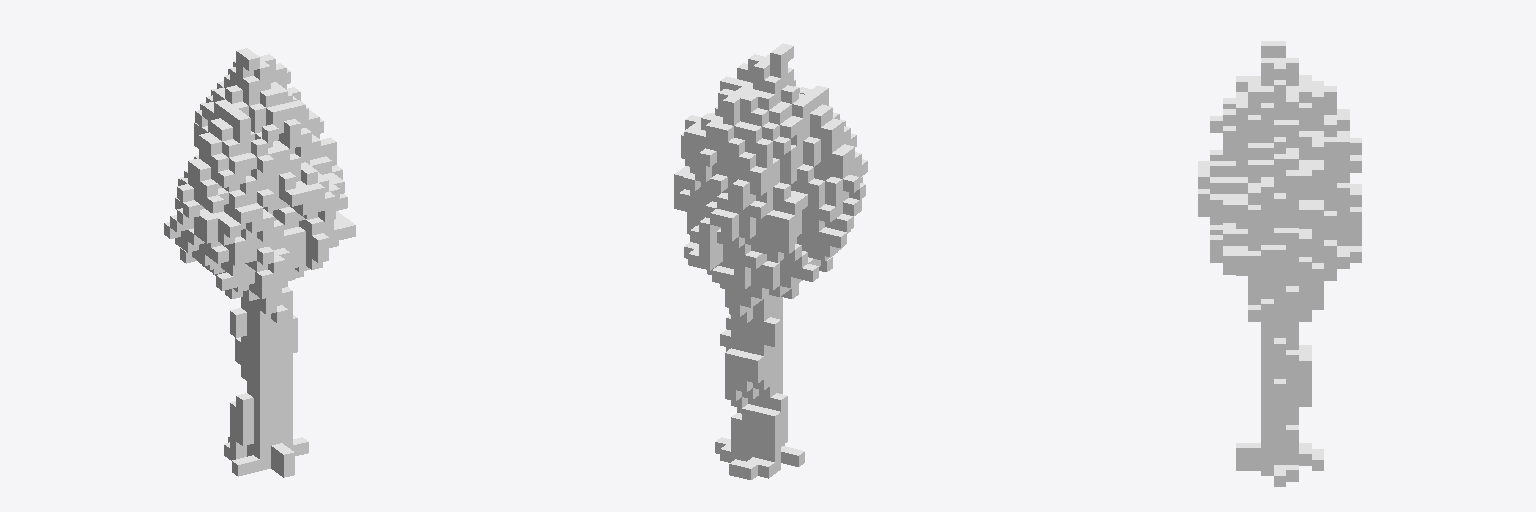
Rendered from tree3.obj.
3 renders of one model, left to right at view 1: azimuth 30°, elevation 25°; view 2: azimuth 150°, elevation 25°; view 3: azimuth 270°, elevation 25°, orthographic.
Visible parts, largest first — view 1: object 1; view 2: object 1; view 3: object 1.
Boxes of the visible parts, <box> form: object 1: <box>164,48,355,477</box>; object 1: <box>674,43,867,479</box>; object 1: <box>1198,41,1361,486</box>.
Bounding box in the file's own units: 1.5 × 3.6 × 1.3.